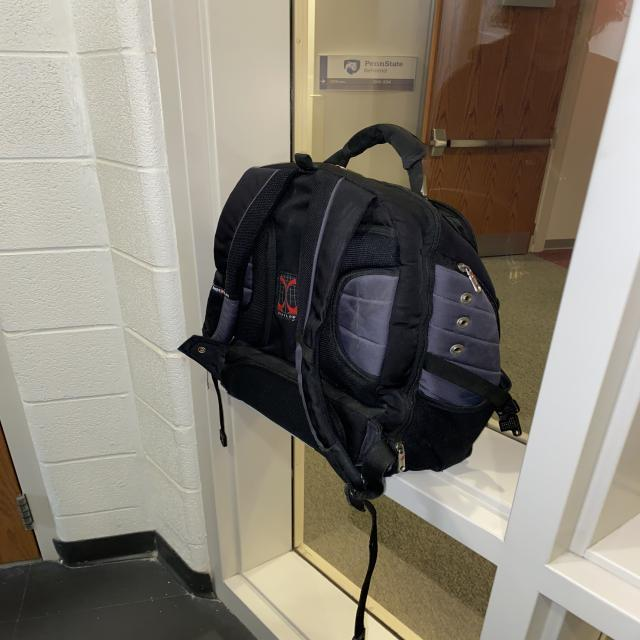Backpacks: (197, 121, 503, 502)
